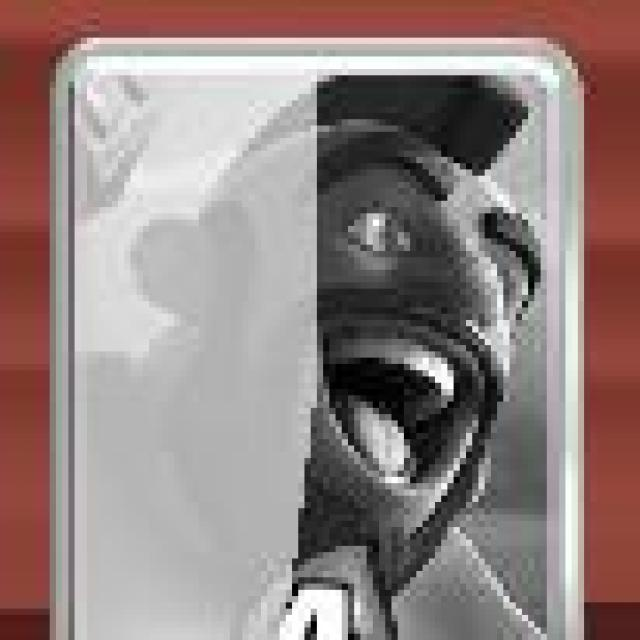Hog_Rider: (46, 37, 587, 640)
